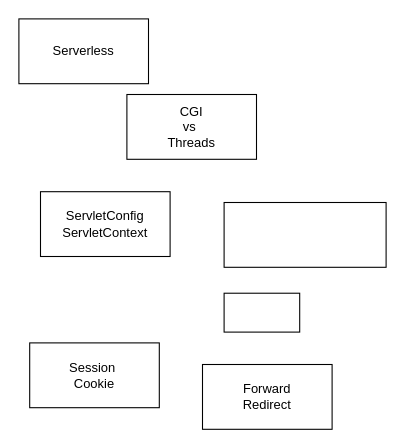
This 405x448 diagram has some shape labels left out. The shapes that lost their labels are listed below. From the top down, each one's box as (x1, y1, x2, y2) in pixels, then its label:
(223, 201, 386, 267): Context Listeners ServeltContextListener
(223, 292, 300, 332): Filters
